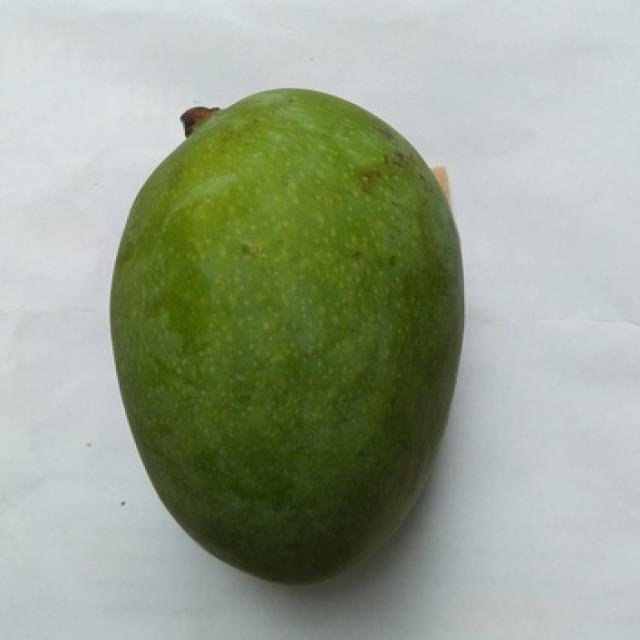Mango: (111, 89, 462, 580)
